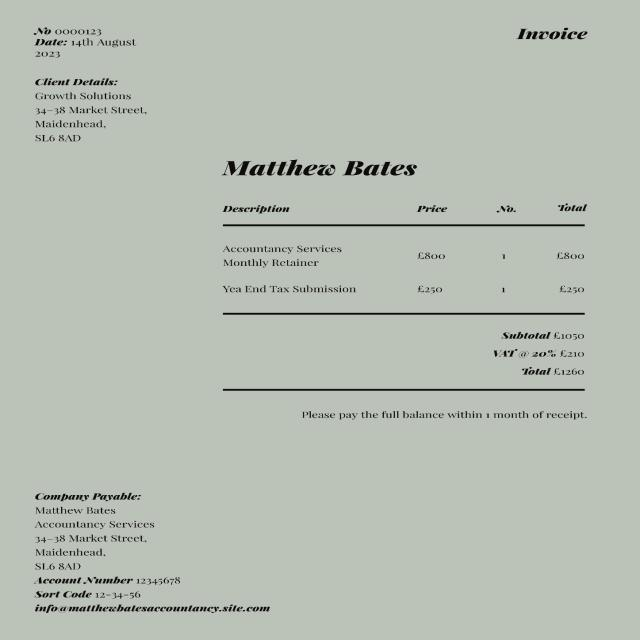paragraph: (34, 574, 276, 618), (33, 494, 162, 570), (29, 78, 156, 150), (300, 408, 592, 428), (490, 324, 591, 381), (32, 27, 146, 68), (223, 161, 426, 184), (506, 22, 604, 48)
table: (209, 202, 597, 300)
